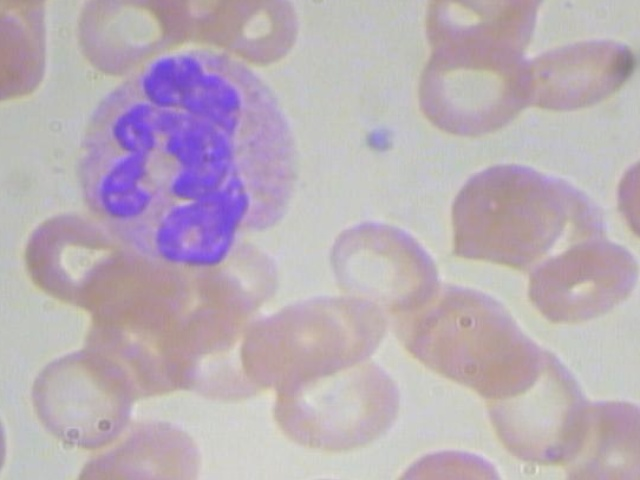Platelets: (359, 121, 402, 156)
RBC: (458, 334, 606, 469), (256, 346, 403, 460), (440, 152, 577, 274), (405, 37, 540, 142), (315, 212, 450, 317), (13, 344, 148, 449), (516, 21, 640, 117), (525, 229, 640, 323), (62, 0, 191, 82), (610, 136, 640, 261)
WBC: (48, 45, 323, 276)
